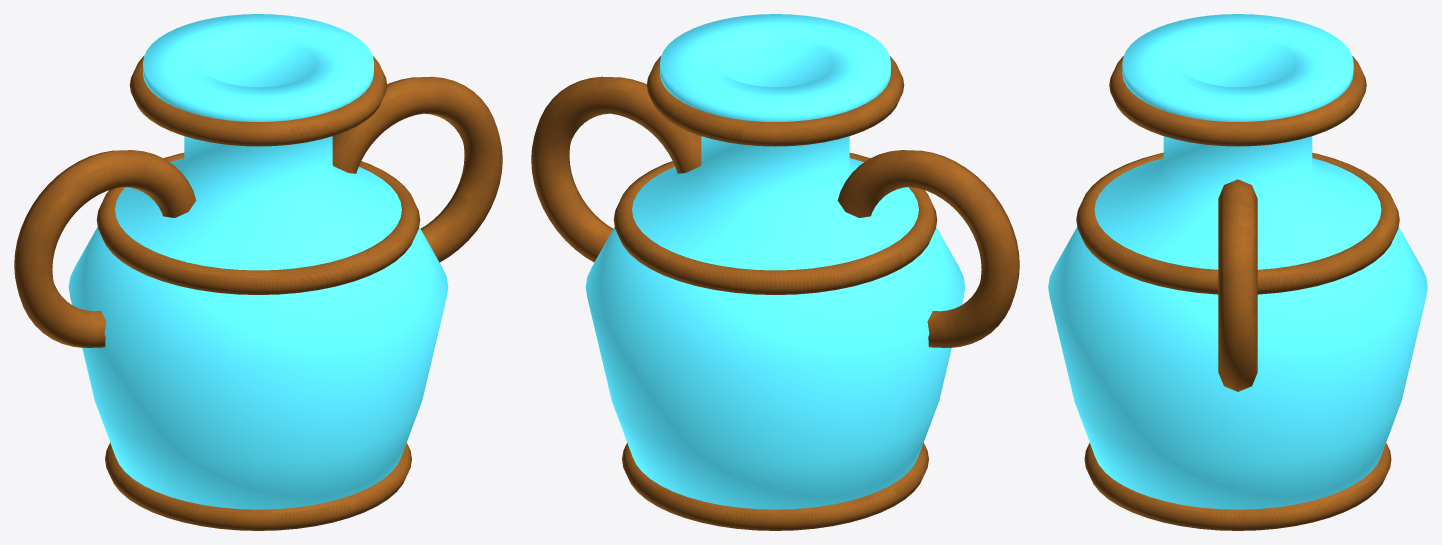
Rendered from relic_11.glb.
3 renders of one model, left to right at view 1: azimuth 30°, elevation 25°; view 2: azimuth 150°, elevation 25°; view 3: azimuth 270°, elevation 25°, orthographic.
Visible parts, largest first — view 1: Luminous_aquamarine, Brushed_gold; view 2: Luminous_aquamarine, Brushed_gold; view 3: Luminous_aquamarine, Brushed_gold.
Boxes of the visible parts, box(x1,y1,x2,y2) form: Luminous_aquamarine: box(68, 14, 448, 509); Brushed_gold: box(14, 56, 502, 530); Luminous_aquamarine: box(585, 14, 965, 509); Brushed_gold: box(531, 56, 1019, 530); Luminous_aquamarine: box(1048, 14, 1427, 509); Brushed_gold: box(1076, 56, 1399, 530).
Bounding box in the file's own units: 0.678 × 0.56 × 0.46.
Materials: 2 (1 with a texture image).
